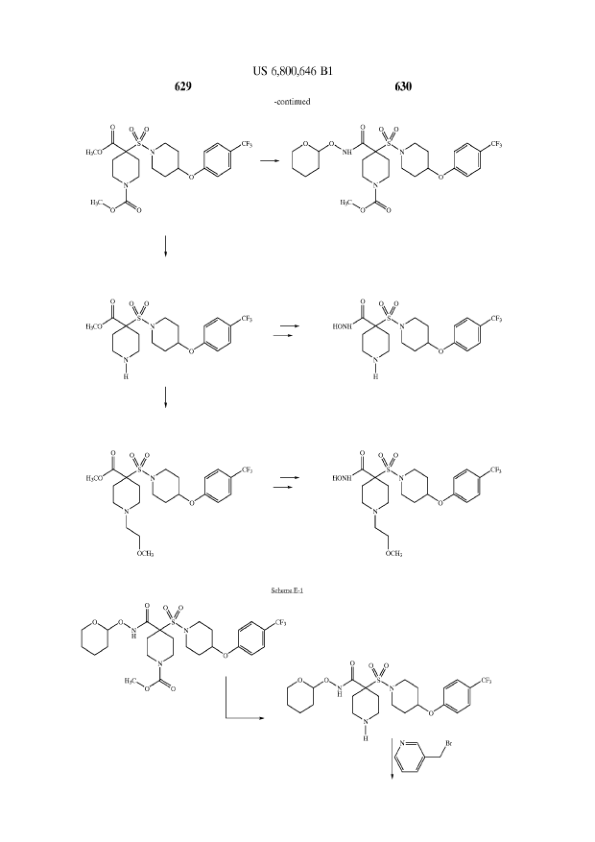compound-structure: (331, 432, 504, 572), (288, 114, 509, 223), (69, 592, 291, 694), (277, 638, 491, 743), (82, 439, 256, 560), (85, 108, 254, 231), (326, 288, 513, 384), (82, 282, 254, 381), (396, 737, 455, 783)
reaction: (66, 102, 578, 796)
reaction-arrow: (214, 674, 268, 735), (267, 463, 306, 496), (275, 317, 300, 348), (382, 735, 395, 778), (257, 152, 282, 170), (158, 386, 174, 411), (160, 234, 175, 259)
